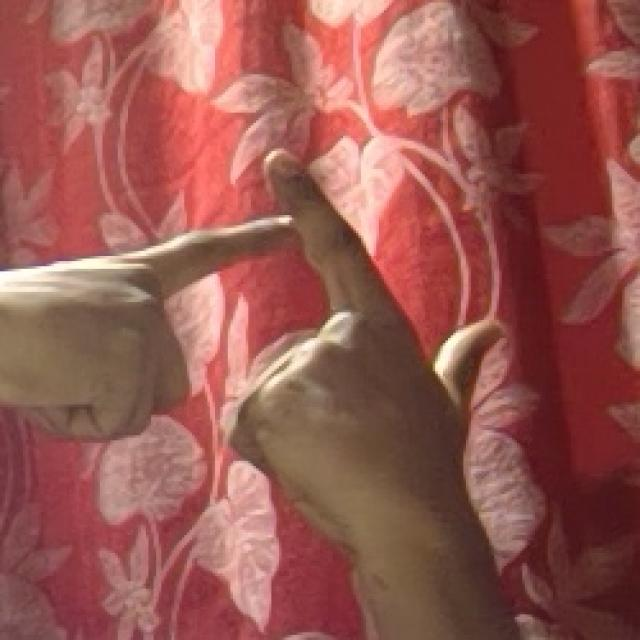Alphabet-J: (34, 126, 524, 561), (562, 509, 564, 510)
